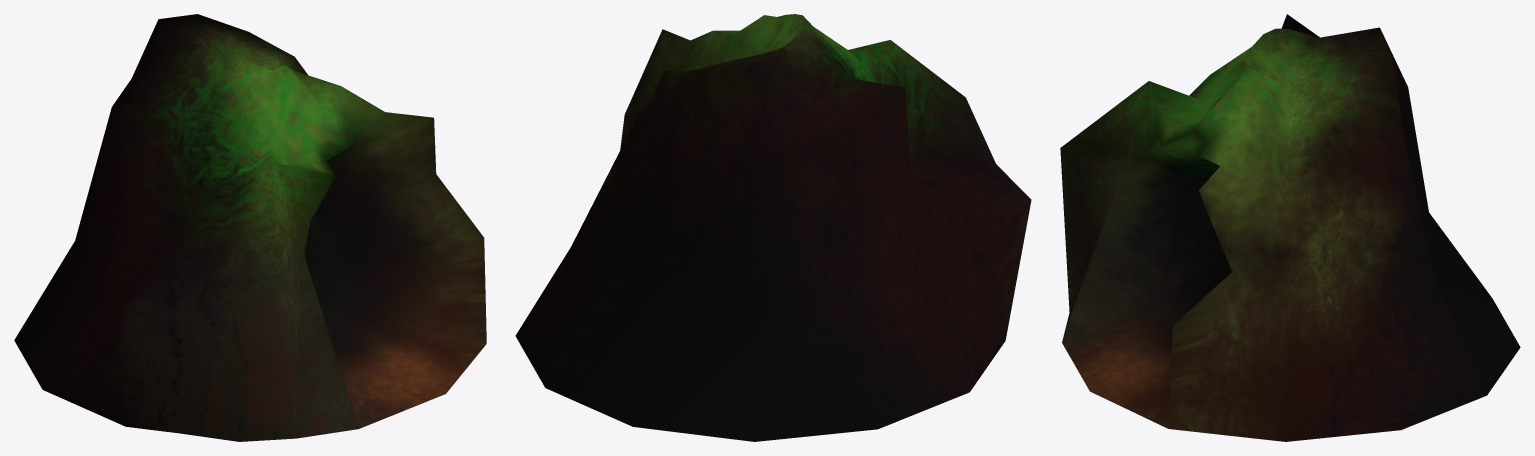
File: GemMine.fbx
3 views of the same model, side by side, from view 1: azimuth 30°, elevation 25°; view 2: azimuth 150°, elevation 25°; view 3: azimuth 270°, elevation 25° (orthographic). The views are drawn at different scales.
Parts seen in each view (by area): view 1: pCone2; view 2: pCone2; view 3: pCone2.
Boxes of the visible parts, box(x1,y1,x2,y2) form: pCone2: box(14, 14, 486, 441); pCone2: box(515, 14, 1031, 441); pCone2: box(1060, 14, 1520, 441).
Bounding box in the file's own units: 15.03 × 10.83 × 15.08.
